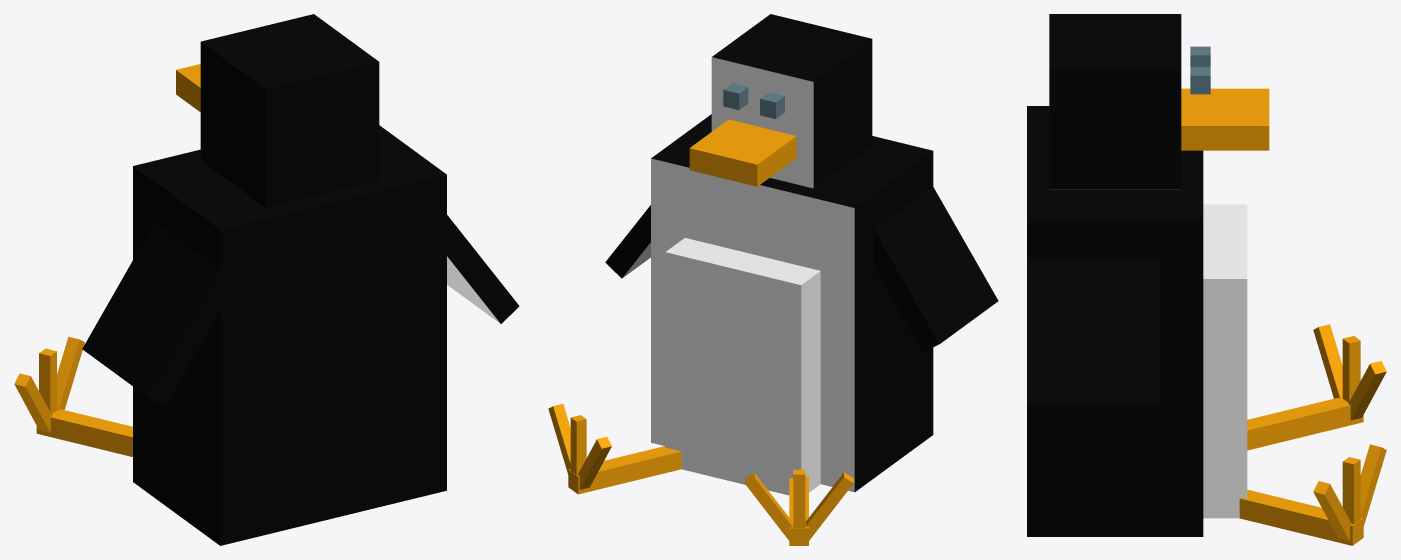
The model's file is pingu.fbx.
3 renders of one model, left to right at view 1: azimuth 30°, elevation 25°; view 2: azimuth 150°, elevation 25°; view 3: azimuth 270°, elevation 25°, orthographic. The views are drawn at different scales.
Visible parts, largest first — view 1: Cube.006; view 2: Cube.006; view 3: Cube.006.
Boxes of the visible parts, x1,y1,x2,y2 form: Cube.006: (14,14,519,545); Cube.006: (548,14,998,545); Cube.006: (1027,14,1386,545).
Size of the model in its own units: 986 by 1100 by 816.
